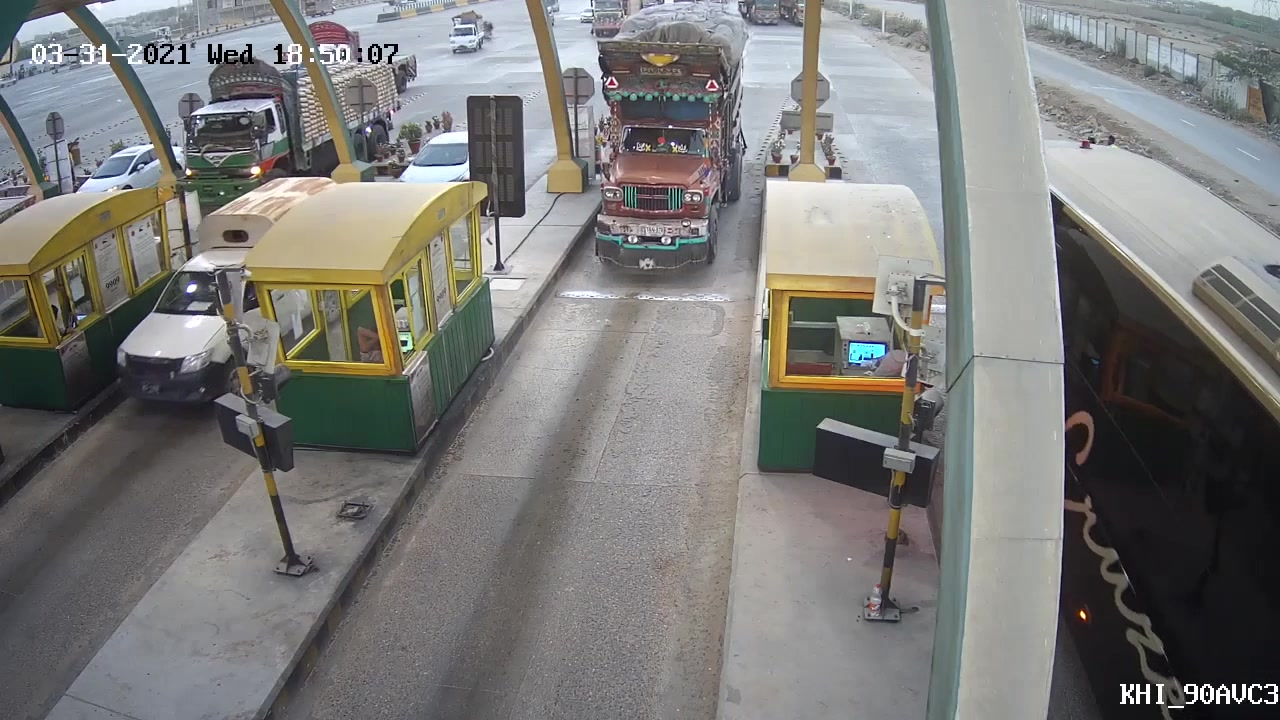F5: (576, 7, 769, 281)
